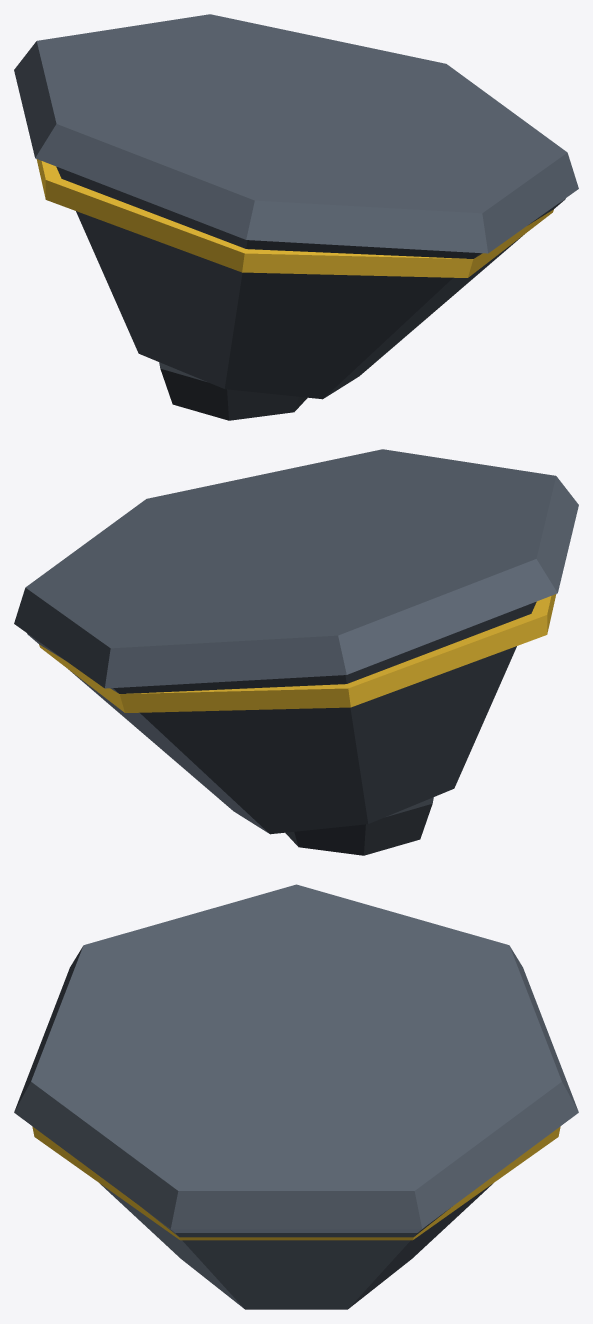
File: hopper_gravity.glb
The picture shows the model from 3 angles, top to bottom: view 1: azimuth 30°, elevation 25°; view 2: azimuth 150°, elevation 25°; view 3: azimuth 270°, elevation 25°; orthographic projection. The views are drawn at different scales.
Visible parts, largest first — view 1: hopper_gravity; view 2: hopper_gravity; view 3: hopper_gravity.
Boxes of the visible parts, x1,y1,x2,y2 form: hopper_gravity: (14,14,578,420); hopper_gravity: (14,449,578,855); hopper_gravity: (14,884,578,1309).
Bounding box in the file's own units: 0.1547 × 0.0953 × 0.1618.
